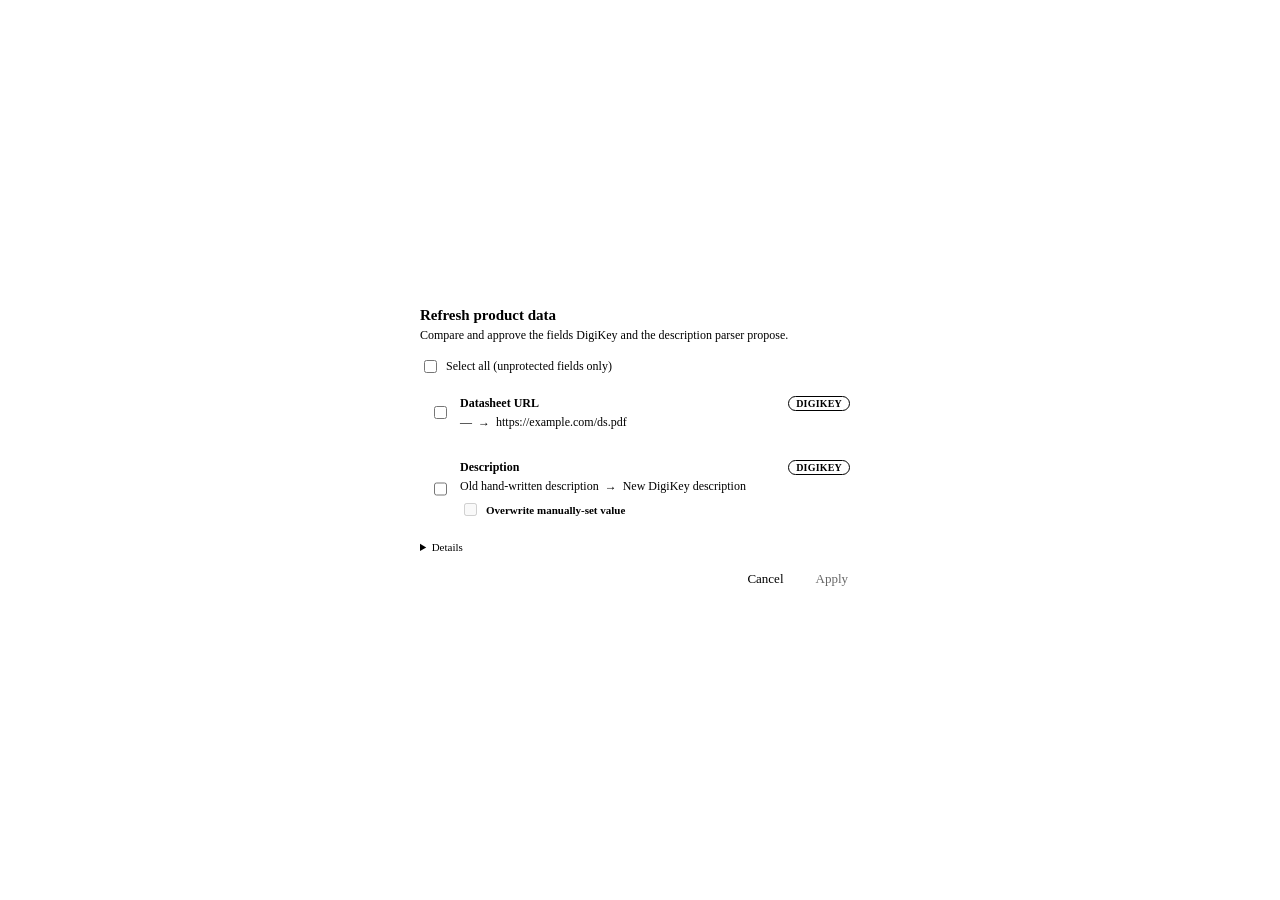
Test: EnrichmentDiffDialog › select-all arms only unprotected rows, leaving protected rows untouched
The width and height of the screenshot is (1280, 900).
Expected: the text "Datasheet URL" is shown, [460,396,539,411]
Step 1. Click the checkbox labelled "Select all (unprotected fields only)" → [430, 366], box [424,360,437,373]
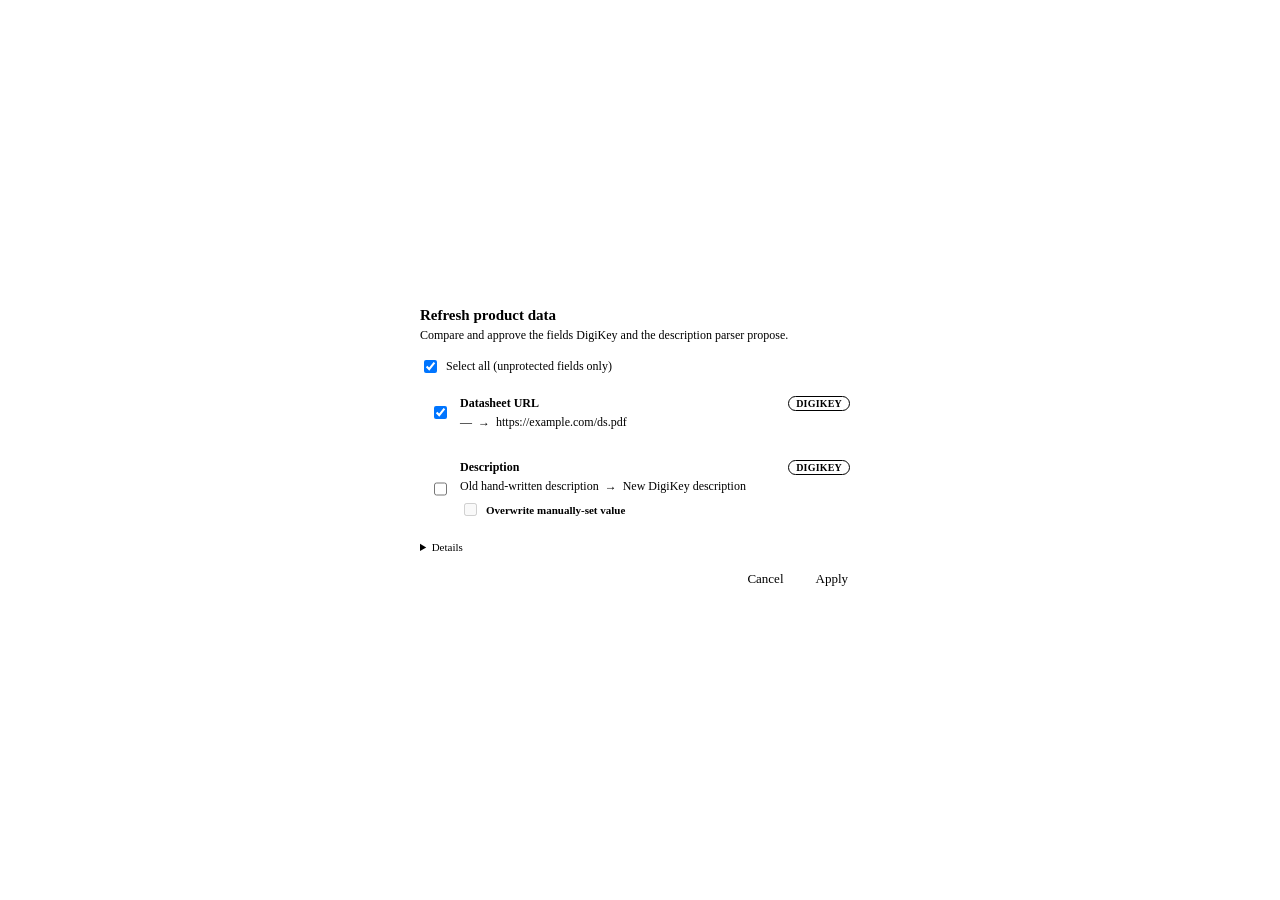
Expected: the checkbox named "include" is not checked, [434,462,447,516]
Expected: the checkbox named "include" is checked, [434,398,447,427]
